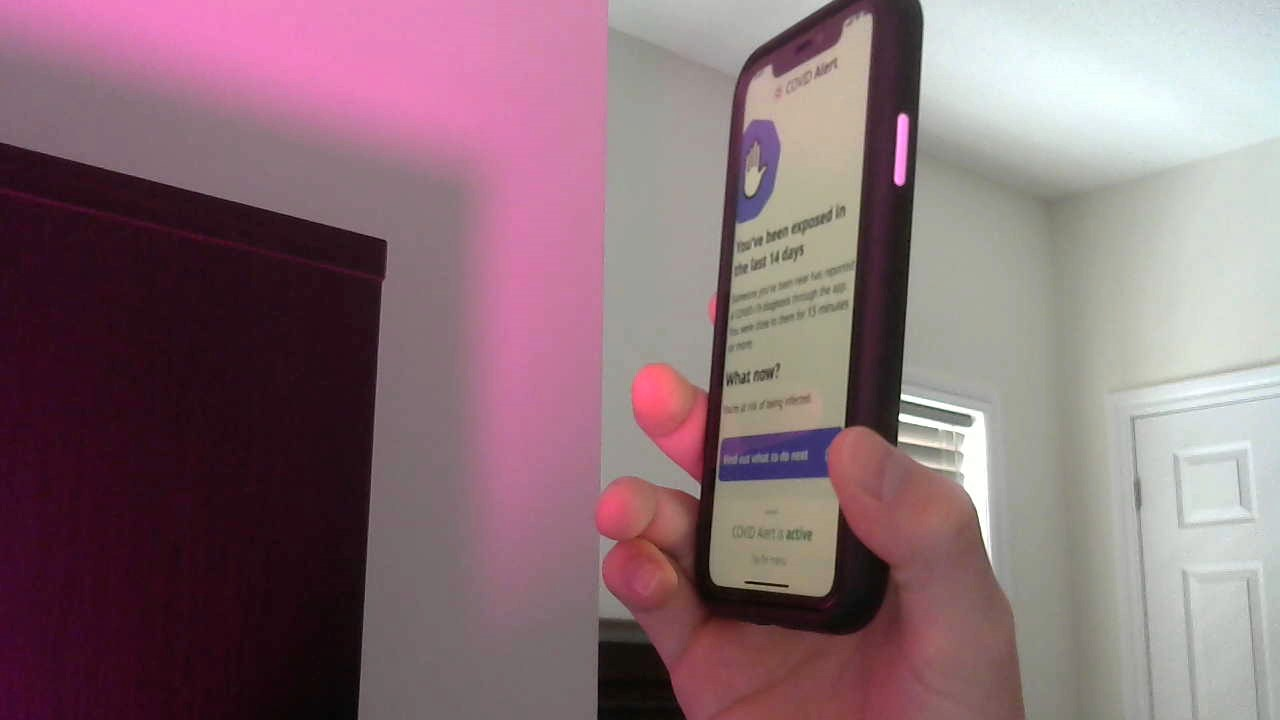Exposed: (722, 118, 882, 275)
